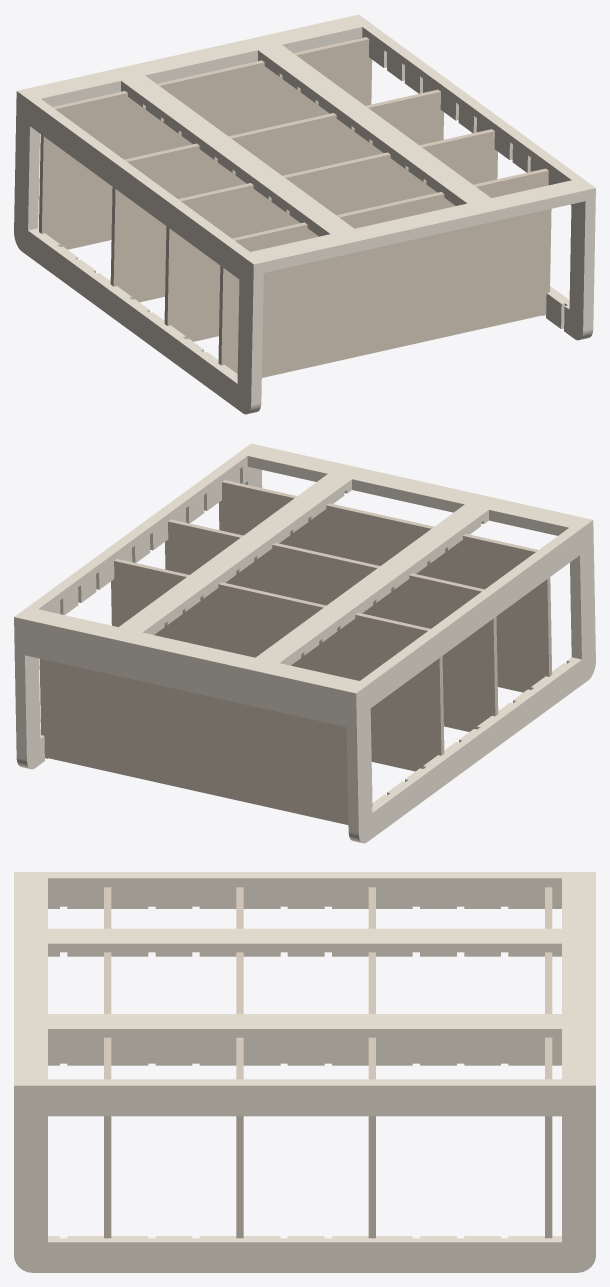
Rendered from shelves_v3.glb.
The picture shows the model from 3 angles, top to bottom: view 1: azimuth 30°, elevation 25°; view 2: azimuth 150°, elevation 25°; view 3: azimuth 270°, elevation 25°; orthographic projection. The views are drawn at different scales.
Visible parts, largest first — view 1: Object_2, Object_3; view 2: Object_2, Object_3; view 3: Object_3, Object_2.
Boxes of the visible parts, x1,y1,x2,y2 form: Object_2: (39, 37, 551, 377); Object_3: (14, 14, 595, 414); Object_2: (39, 480, 552, 824); Object_3: (14, 443, 595, 843); Object_3: (14, 872, 595, 1272); Object_2: (104, 887, 552, 1238).
Size of the model in its own units: 50.42 by 22.48 by 60.
